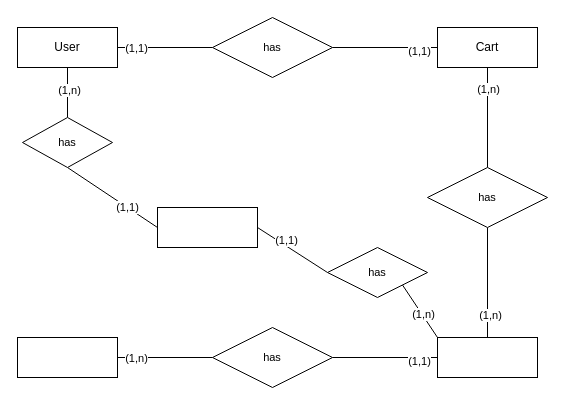
Some shapes in this 565 by 405 pixel diagram are drawn without their labels. Each missing label, with the centre of its shape:
"Category" goes at (x=67, y=357).
"Item" goes at (x=487, y=357).
"Review" goes at (x=207, y=227).
